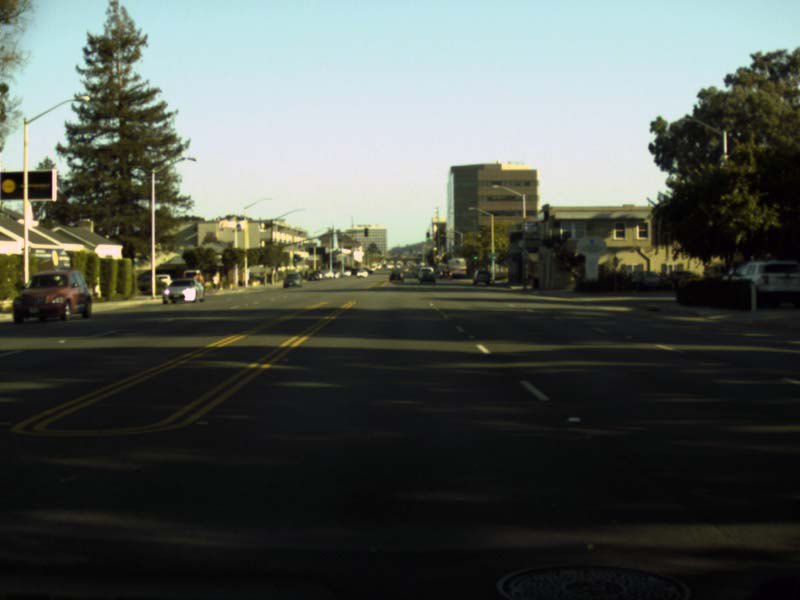Green: (472, 251, 477, 259), (426, 233, 429, 240)
